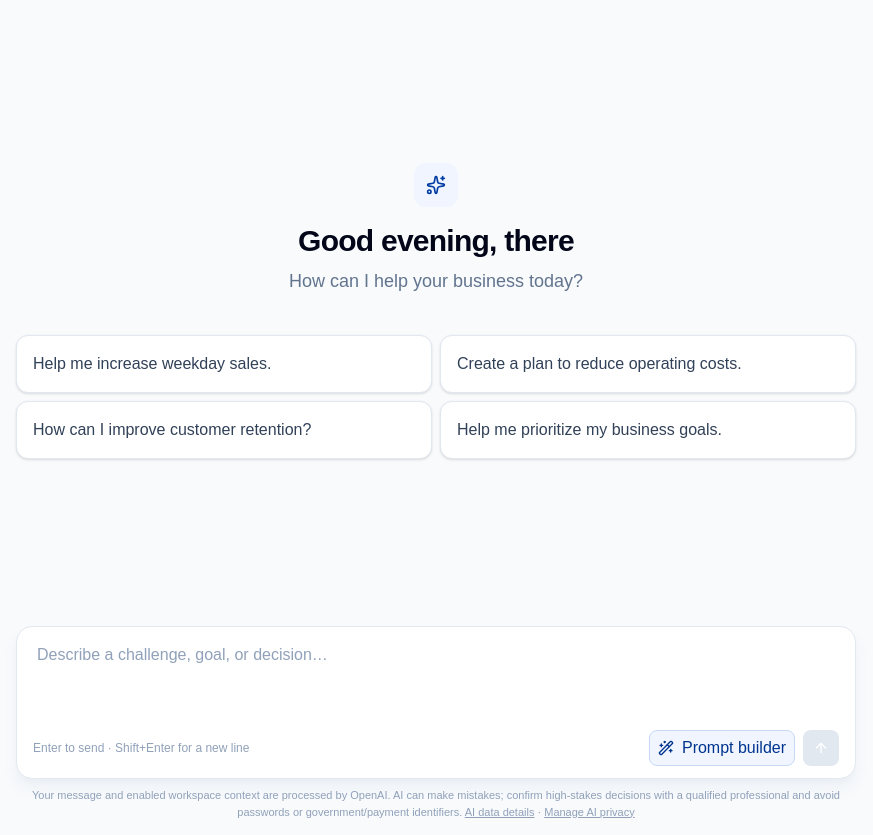
Test: persistent conversations › adopts the stable server conversation ID after the first exchange
This screenshot has width=873, height=835.
In the text box named "Message your business consultant": (436, 679) [25, 635, 847, 723], type "How can my landscaping company reduce fuel costs?"
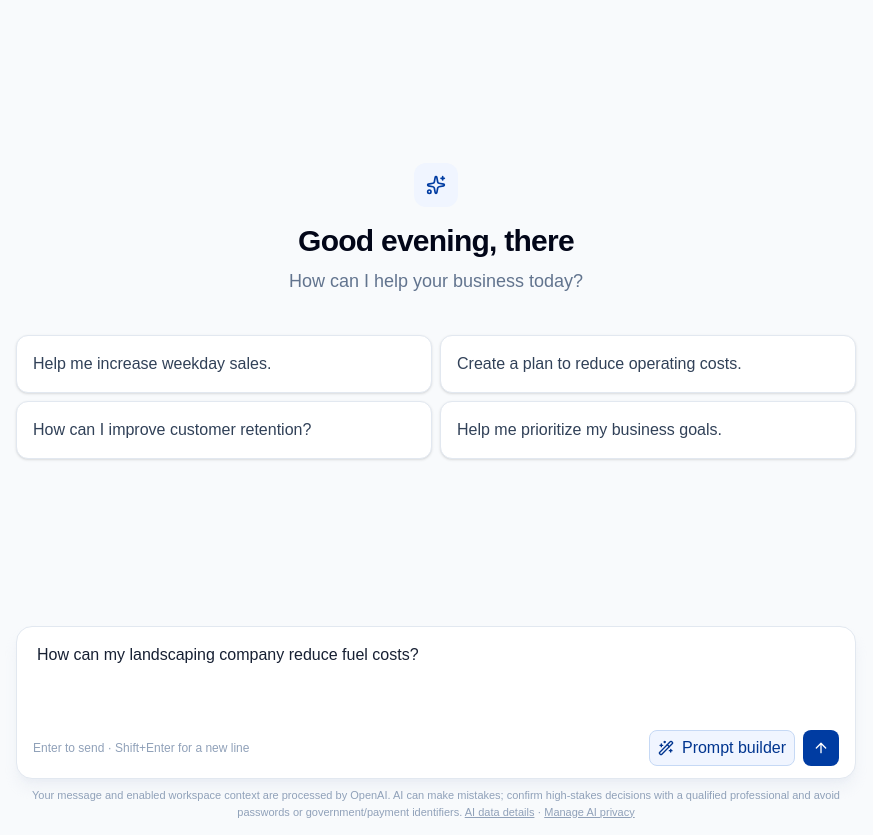
Click the button named "Send message": (821, 748) [803, 730, 839, 766]
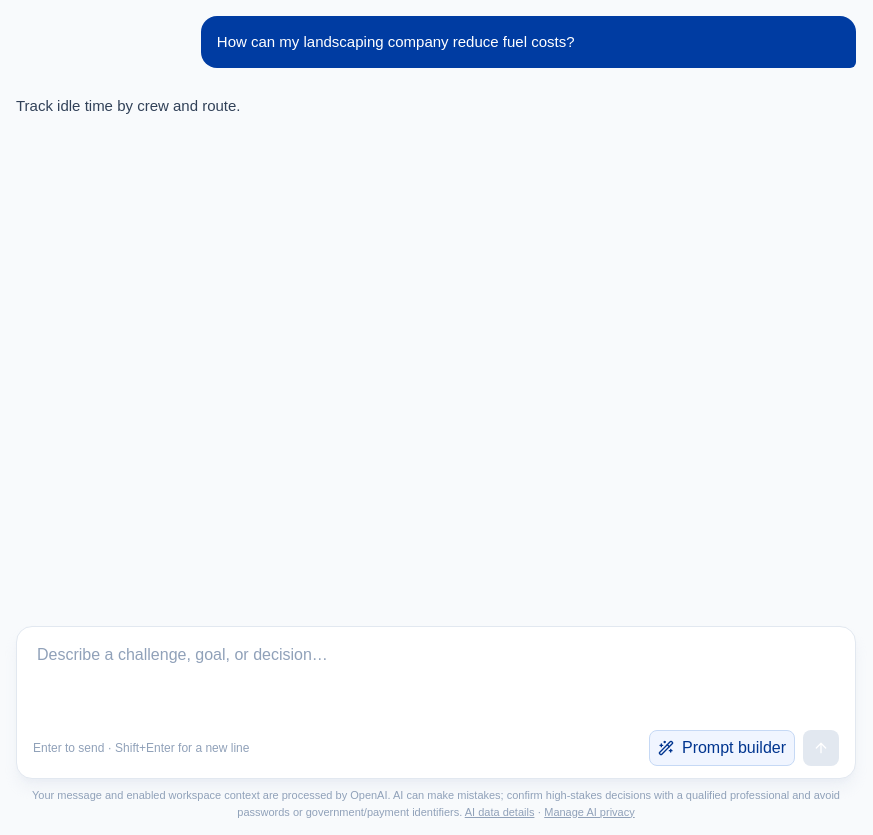
Result: the text "Track idle time by crew and route." is shown at [16, 97, 240, 114]
